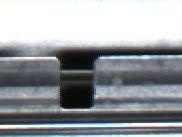oneu: (51, 52, 103, 113)
